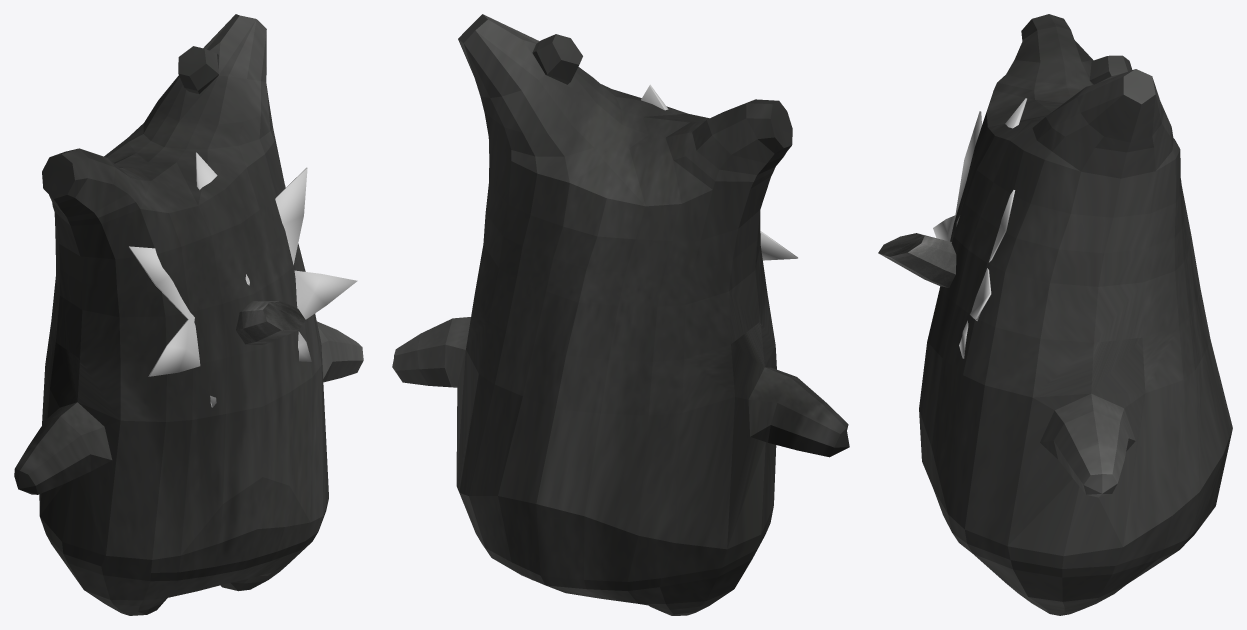
File: frame_0054.obj
3 renders of one model, left to right at view 1: azimuth 30°, elevation 25°; view 2: azimuth 150°, elevation 25°; view 3: azimuth 270°, elevation 25°, orthographic. The views are drawn at different scales.
Visible parts, largest first — view 1: korok, leaf.003_柱体.013, nose.003_柱体.011; view 2: korok, leaf.003_柱体.013; view 3: korok, nose.003_柱体.011, leaf.003_柱体.013.
Part boxes in pixels (x1,y1,x2,y2): korok: [14, 14, 363, 615]; leaf.003_柱体.013: [129, 152, 357, 407]; nose.003_柱体.011: [236, 301, 305, 344]; korok: [392, 14, 849, 615]; leaf.003_柱体.013: [641, 84, 797, 260]; korok: [919, 14, 1232, 615]; nose.003_柱体.011: [878, 233, 956, 287]; leaf.003_柱体.013: [933, 98, 1026, 358].
Size of the model in its own units: 1.7 by 2.3 by 1.32.
